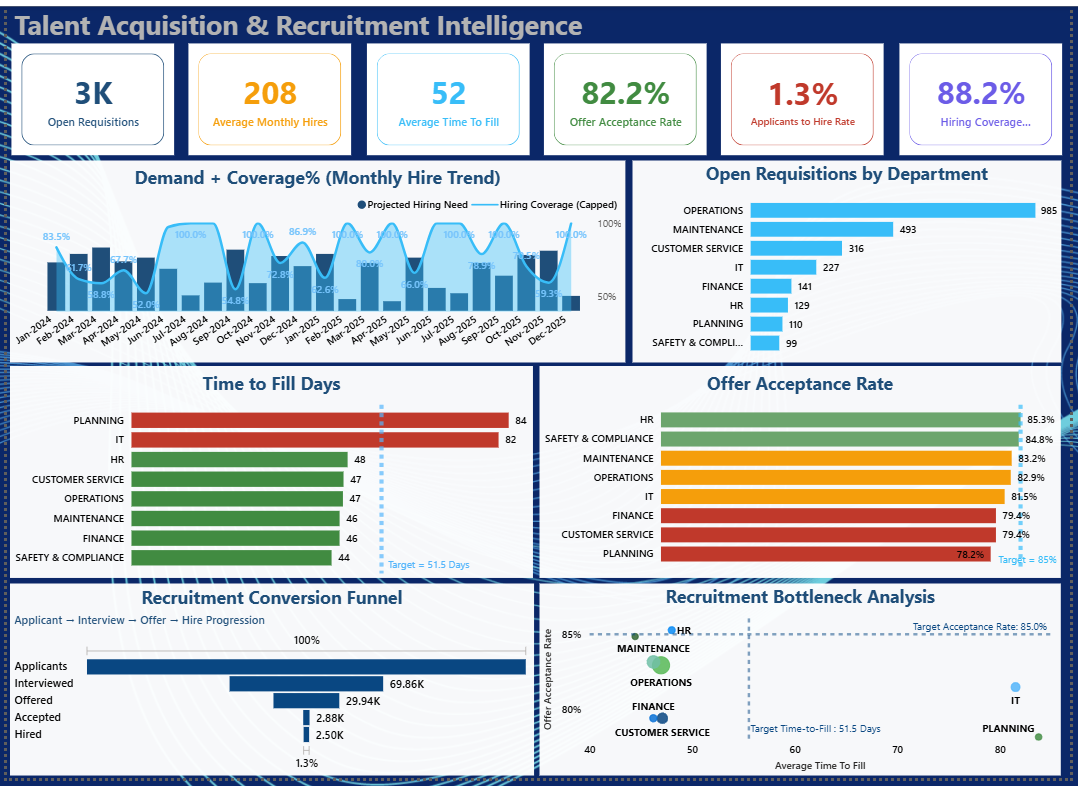

This screenshot's page, from the dashboard's own definition file:
{"tool":"powerbi","page":{"name":"Page 3","canvas":[1280,930],"ordinal":2},"visuals":[{"type":"cardVisual","fields":{"Data":["measures_table.Open Requisitions"]},"box":[0,40.5,206.6,145.8],"z":0},{"type":"cardVisual","fields":{"Data":["measures_table.Hiring Velocity"]},"box":[213.9,40.5,206.6,145.8],"z":1000},{"type":"cardVisual","fields":{"Data":["measures_table.Average Time To Fill"]},"box":[427.7,40.5,206.6,145.8],"z":2000},{"type":"cardVisual","fields":{"Data":["measures_table.Offer Acceptance Rate"]},"box":[641.6,40.5,206.6,145.8],"z":3000},{"type":"cardVisual","fields":{"Data":["measures_table.Candidate Conversion Rate"]},"box":[855.5,40.5,206.6,145.8],"z":4000},{"type":"cardVisual","fields":{"Data":["measures_table.Hiring Coverage"]},"box":[1069.4,40.5,206.6,145.8],"z":5000},{"type":"lineClusteredColumnComboChart","title":"Demand + Coverage% (Monthly Hire Trend)","fields":{"Category":["Date_Table.YearMonth"],"Y":["measures_table.Projected Hiring Need"],"Y2":["measures_table.Hiring Coverage (Capped)"]},"box":[4.1,186.3,741.3,243],"z":6000},{"type":"clusteredBarChart","title":"Open Requisitions by Department","fields":{"Category":["department.Dept"],"Y":["measures_table.Open Requisitions"]},"box":[753.4,186.3,516.5,243],"z":7000},{"type":"clusteredBarChart","title":"Time to Fill Days ","fields":{"Category":["department.Dept"],"Y":["Avg(hiring_pipeline.Time_To_Fill_Days)"]},"box":[4.1,433.4,629.9,255.2],"z":8000},{"type":"clusteredBarChart","title":"Offer Acceptance Rate ","fields":{"Category":["department.Dept"],"Y":["measures_table.Offer Acceptance Rate"]},"box":[642,433.4,627.8,255.2],"z":9000},{"type":"funnel","title":"Recruitment Conversion Funnel","fields":{"Category":["Hiring_Funnel.Stage"],"Y":["Hiring_Funnel.Funnel Value"]},"box":[4,695,631,231],"z":10000},{"type":"scatterChart","title":"Recruitment Bottleneck Analysis","fields":{"X":["measures_table.Average Time To Fill"],"Y":["measures_table.Offer Acceptance Rate"],"Size":["measures_table.Open Requisitions"],"Category":["department.Dept"],"Series":["department.Dept"]},"box":[642,695,628,231],"z":11000},{"type":"textbox","title":"Talent Acquisition & Recruitment Intelligence","box":[4.1,0,1265.8,40.5],"z":12000}]}

Visuals, with their boxes in screenshot pixels (x1, y1, x2, y2), scaled from the page's 1280x930 canvas onto the 1078x786 screenshot:
cardVisual - measures_table.Open Requisitions: l=0, t=34, r=174, b=157
cardVisual - measures_table.Hiring Velocity: l=180, t=34, r=354, b=157
cardVisual - measures_table.Average Time To Fill: l=360, t=34, r=534, b=157
cardVisual - measures_table.Offer Acceptance Rate: l=540, t=34, r=714, b=157
cardVisual - measures_table.Candidate Conversion Rate: l=720, t=34, r=894, b=157
cardVisual - measures_table.Hiring Coverage: l=901, t=34, r=1075, b=157
"Demand + Coverage% (Monthly Hire Trend)" lineClusteredColumnComboChart: l=3, t=157, r=628, b=363
"Open Requisitions by Department" clusteredBarChart: l=635, t=157, r=1069, b=363
"Time to Fill Days " clusteredBarChart: l=3, t=366, r=534, b=582
"Offer Acceptance Rate " clusteredBarChart: l=541, t=366, r=1069, b=582
"Recruitment Conversion Funnel" funnel: l=3, t=587, r=535, b=783
"Recruitment Bottleneck Analysis" scatterChart: l=541, t=587, r=1070, b=783
"Talent Acquisition & Recruitment Intelligence" textbox: l=3, t=0, r=1069, b=34
